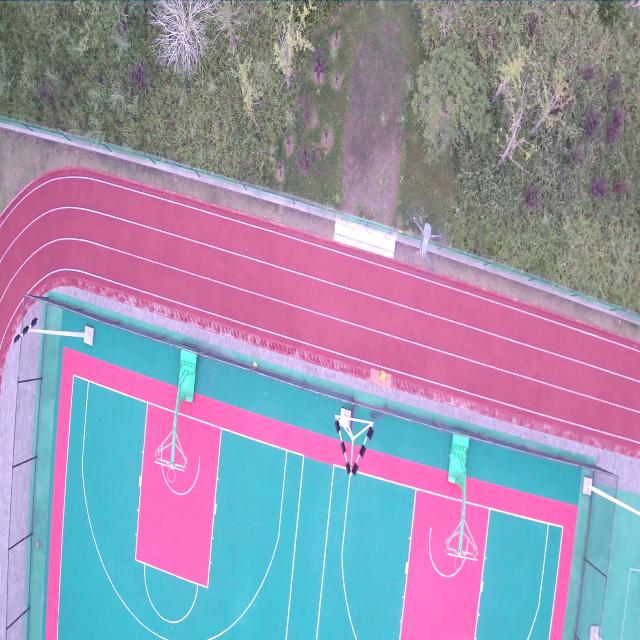UAV: (408, 214, 442, 275)
